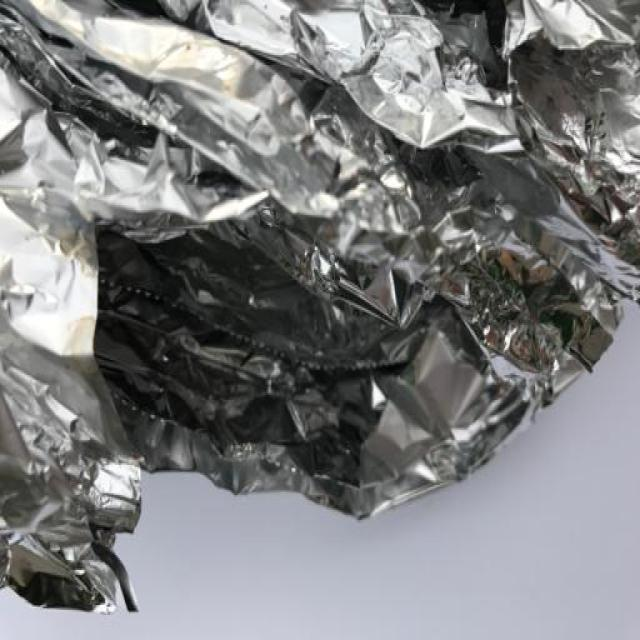metal: (0, 0, 639, 615)
